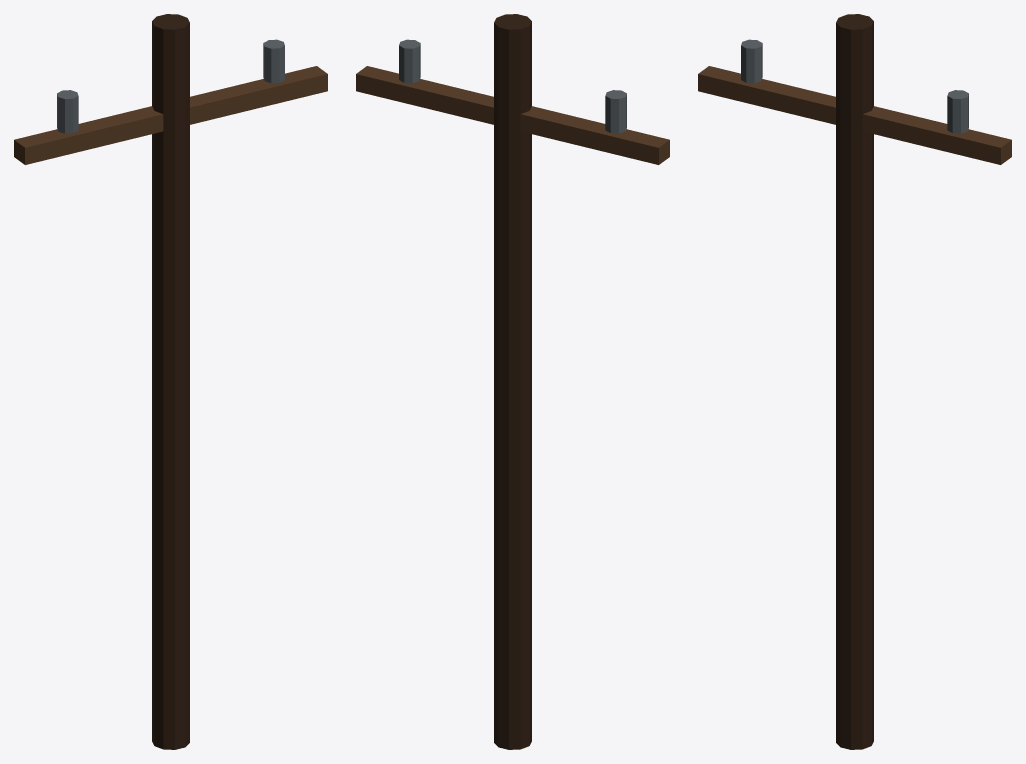
The model's file is AUR_UtilityPole.obj.
The picture shows the model from 3 angles, left to right: view 1: azimuth 30°, elevation 25°; view 2: azimuth 150°, elevation 25°; view 3: azimuth 330°, elevation 25°; orthographic projection.
Parts seen in each view (by area): view 1: pole_0, crossbar_1, insulator_2, insulator_4; view 2: pole_0, crossbar_1, insulator_2, insulator_4; view 3: pole_0, crossbar_1, insulator_4, insulator_2.
Boxes of the visible parts, left/top/right/bottom form: pole_0: left=152, top=14, right=189, bottom=749; crossbar_1: left=14, top=66, right=327, bottom=164; insulator_2: left=57, top=90, right=78, bottom=133; insulator_4: left=263, top=39, right=284, bottom=83; pole_0: left=494, top=14, right=531, bottom=749; crossbar_1: left=356, top=66, right=669, bottom=164; insulator_2: left=605, top=90, right=626, bottom=133; insulator_4: left=399, top=39, right=420, bottom=83; pole_0: left=836, top=14, right=873, bottom=749; crossbar_1: left=698, top=66, right=1011, bottom=164; insulator_4: left=947, top=90, right=968, bottom=133; insulator_2: left=741, top=39, right=762, bottom=83.
Size of the model in its own units: 2.2 by 5 by 0.2283.
